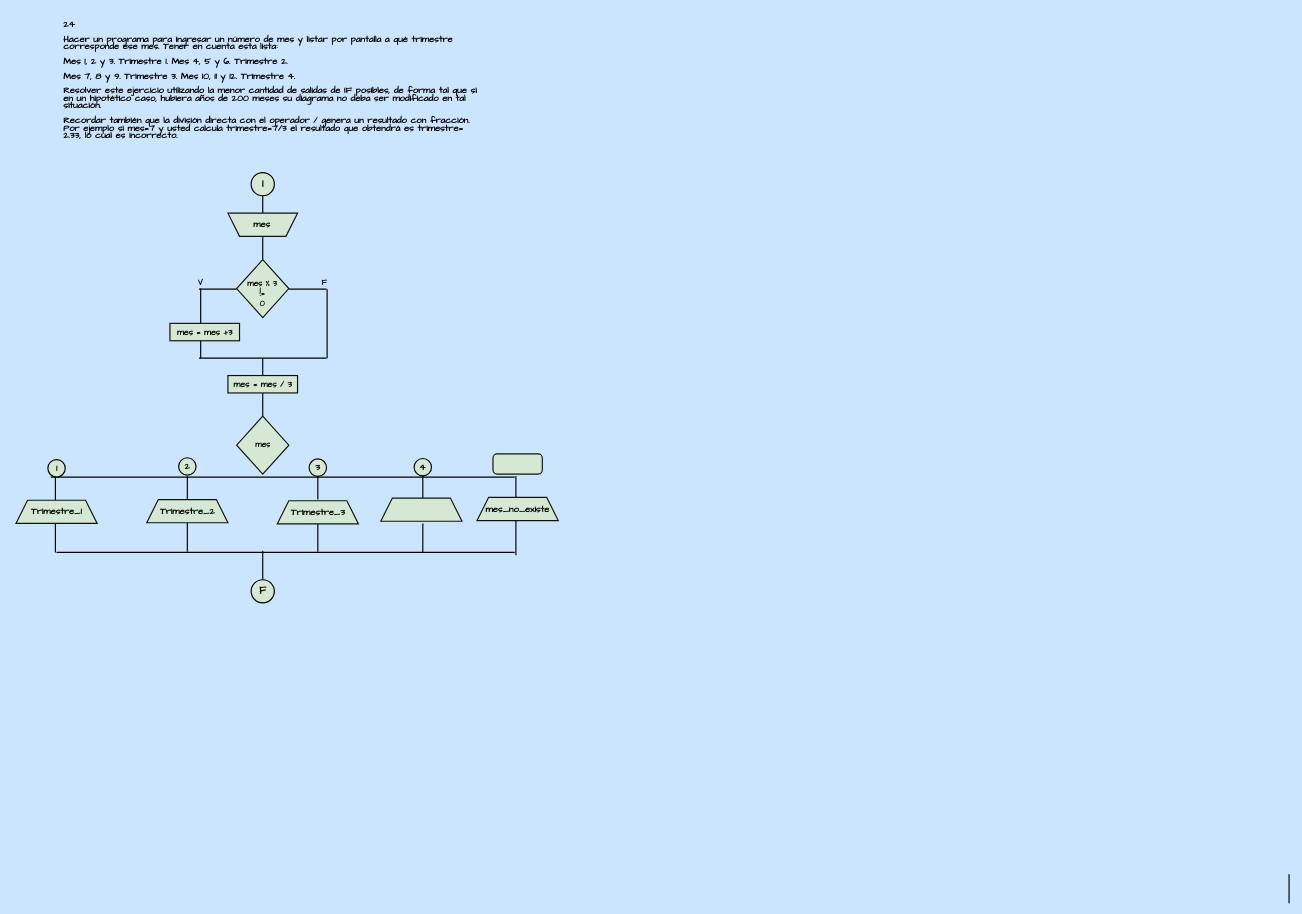
Image size: 1302x914. Some labels were removed from this diagram. Here are the shapes that lost their labels. From the top down, the centre of each, then its label:
At (517,463): "default".
At (421,509): "Trimestre_4".
